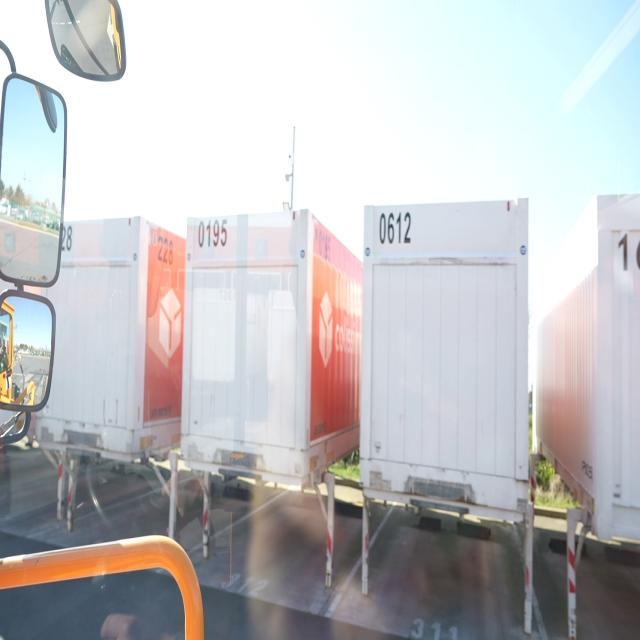Code: (376, 207, 413, 250), (198, 214, 232, 251), (155, 229, 176, 270)
